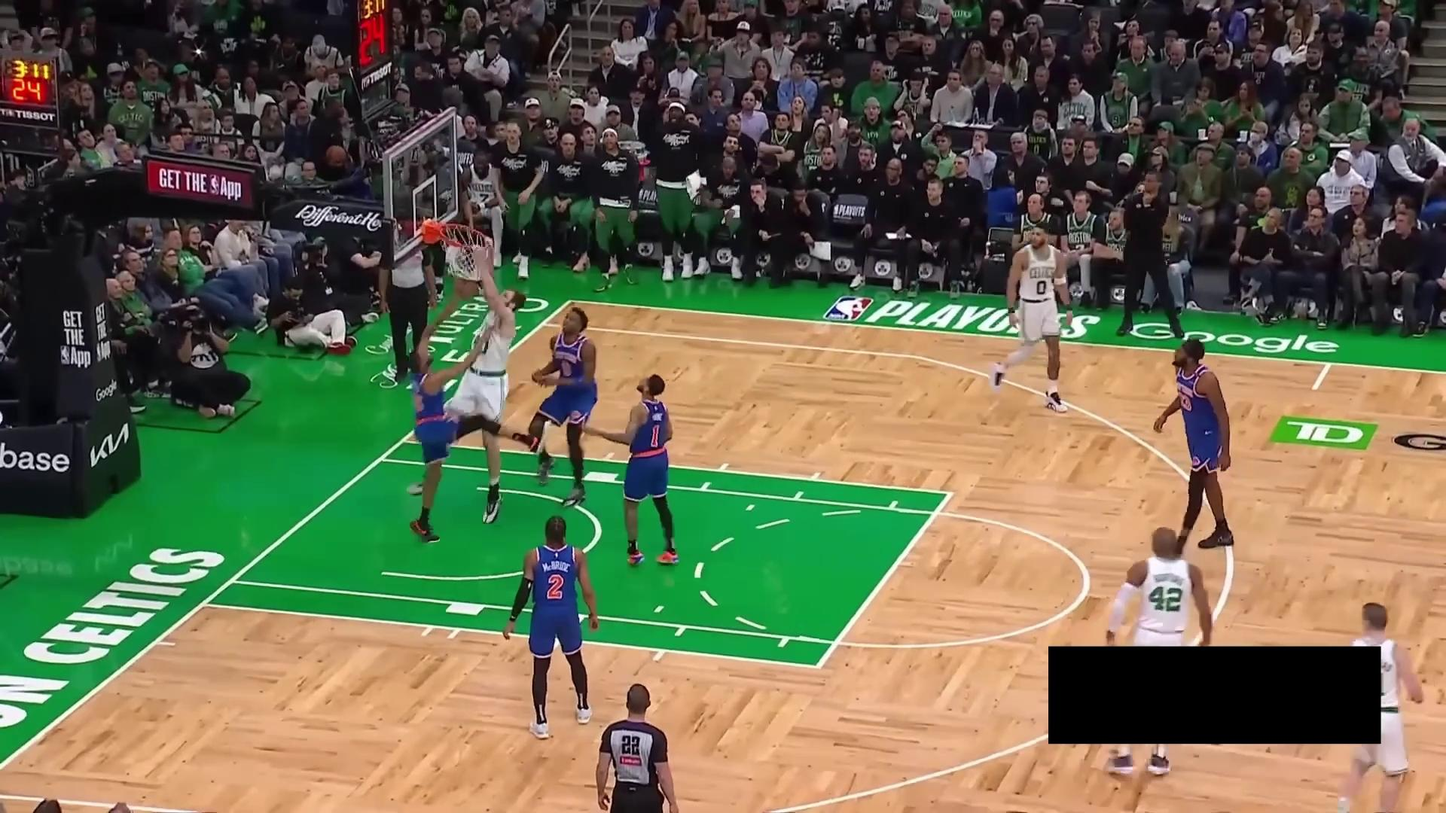ball: (451, 275, 483, 302)
number: (1147, 584, 1185, 618), (543, 573, 566, 602), (649, 424, 661, 450), (560, 358, 572, 378), (1036, 279, 1047, 296)
player: (403, 302, 550, 542), (1088, 522, 1216, 774), (498, 511, 605, 739), (579, 370, 686, 569), (1148, 337, 1245, 555), (1332, 600, 1424, 813), (526, 298, 609, 518), (989, 217, 1076, 418)
player-layup-dunk: (406, 235, 523, 527)
referee: (593, 683, 683, 813), (378, 241, 439, 385)
rim: (437, 220, 497, 259)
